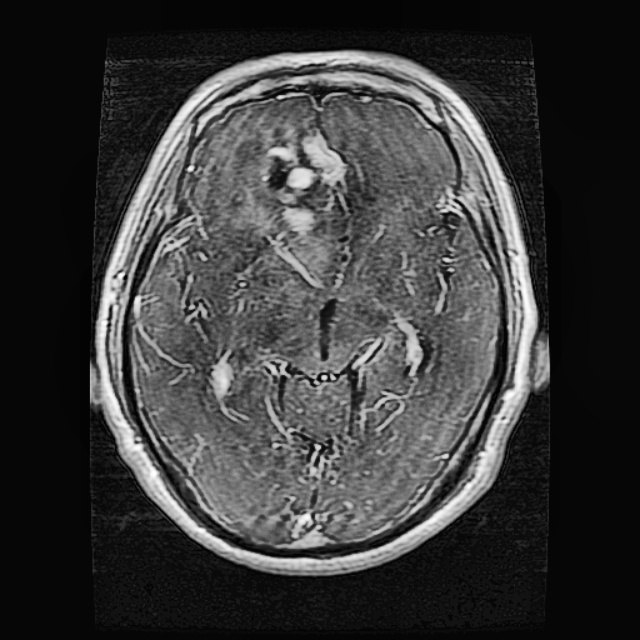Glioma: (262, 134, 350, 287)
